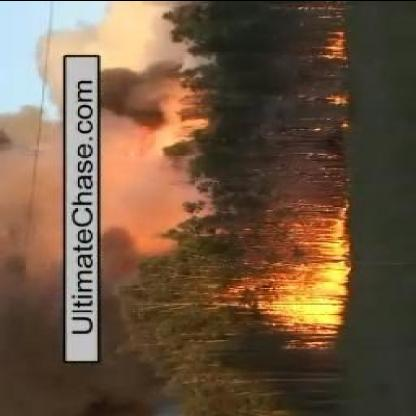-: (3, 109, 62, 404), (99, 54, 163, 254)
foggia-v2-map80-epoch100 - v1 4323: (254, 220, 346, 328)
